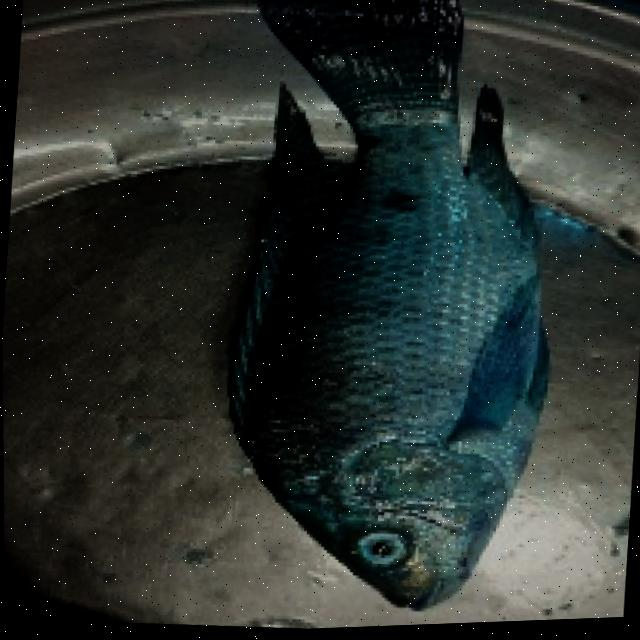Fresh: (214, 126, 597, 634)
